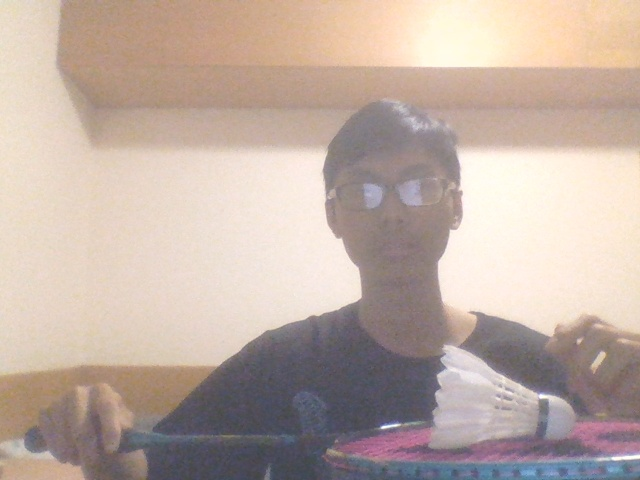human: (38, 98, 640, 480)
racket: (24, 416, 640, 480)
shuttle: (427, 344, 576, 450)
